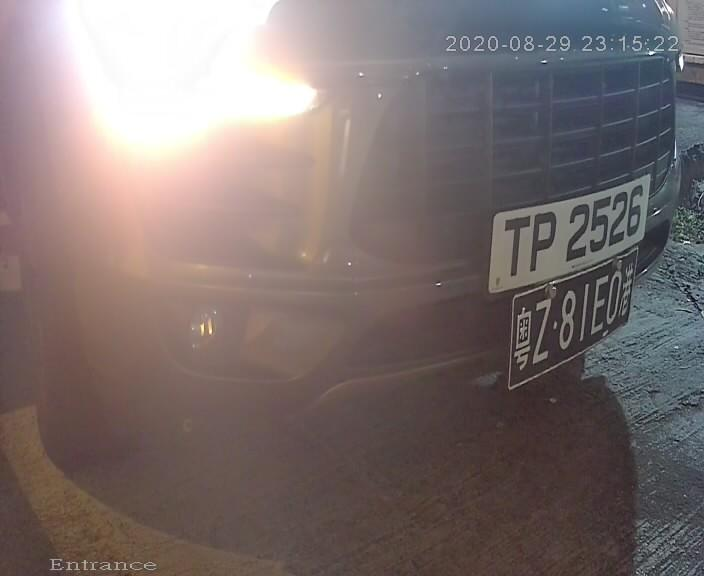License Plate: (478, 170, 651, 307)
